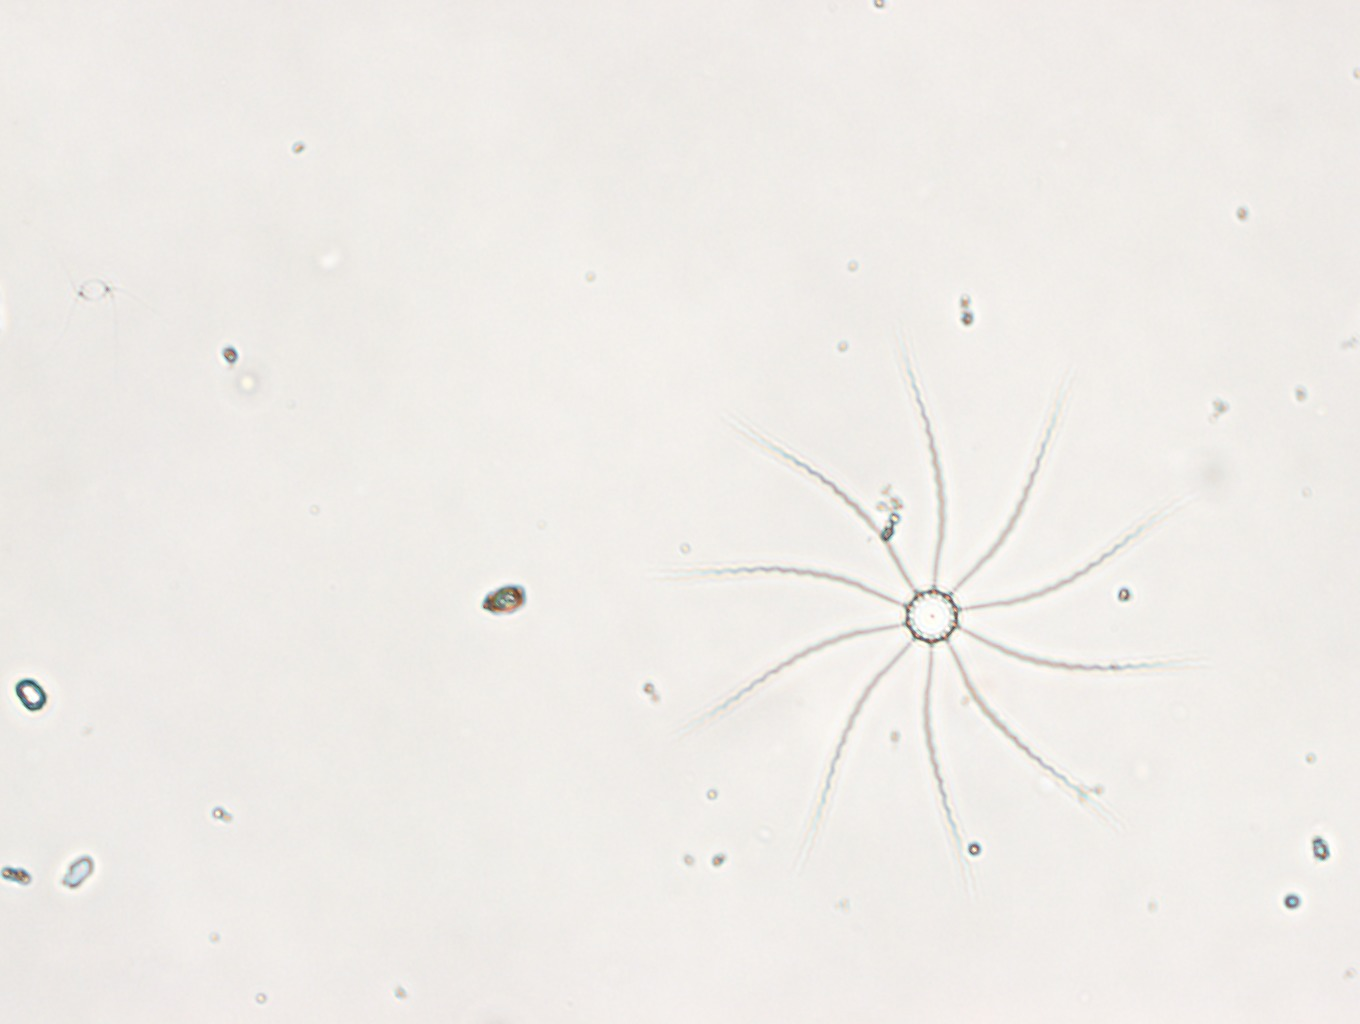bacteriastrum: (676, 341, 1182, 855)
